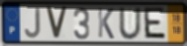3: (72, 6, 91, 40)
E: (143, 6, 168, 42)
J: (23, 6, 42, 39)
K: (96, 7, 115, 40)
U: (118, 7, 143, 41)
V: (44, 5, 70, 41)
